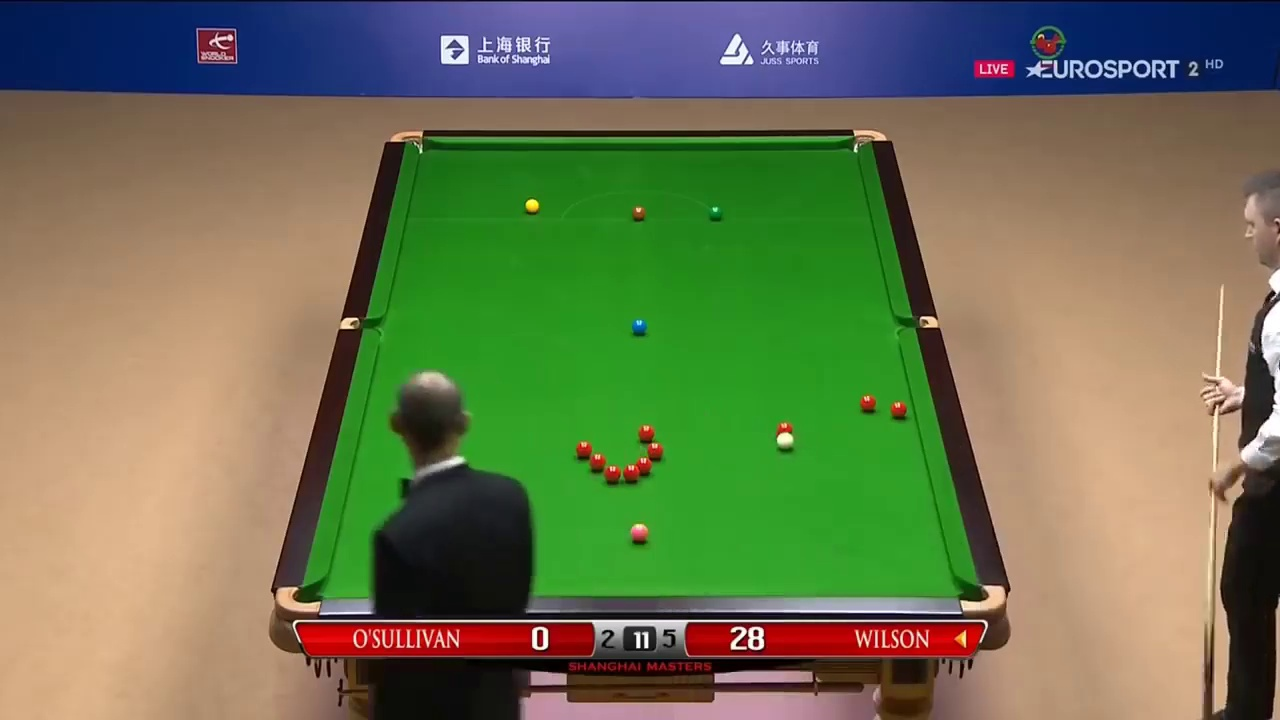ball: (629, 523, 649, 543), (890, 397, 908, 418), (774, 432, 794, 450), (631, 318, 649, 337), (859, 394, 875, 412), (707, 206, 724, 222), (630, 207, 646, 222), (525, 197, 539, 214)
